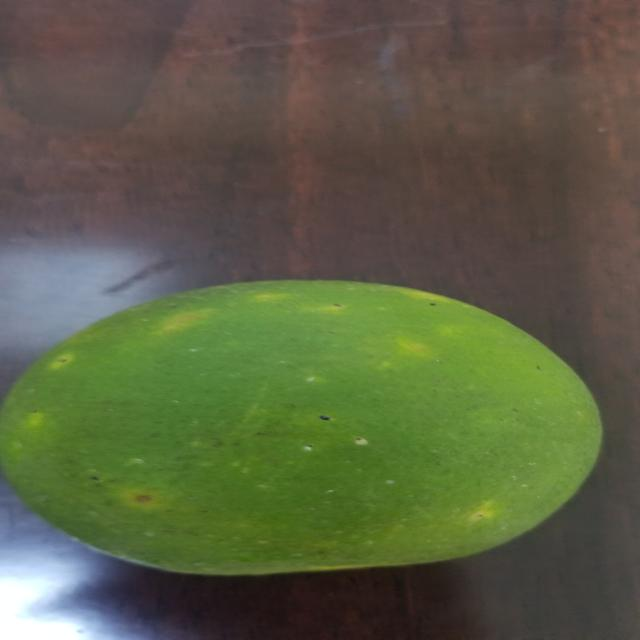Ripe orange: (10, 279, 614, 586)
